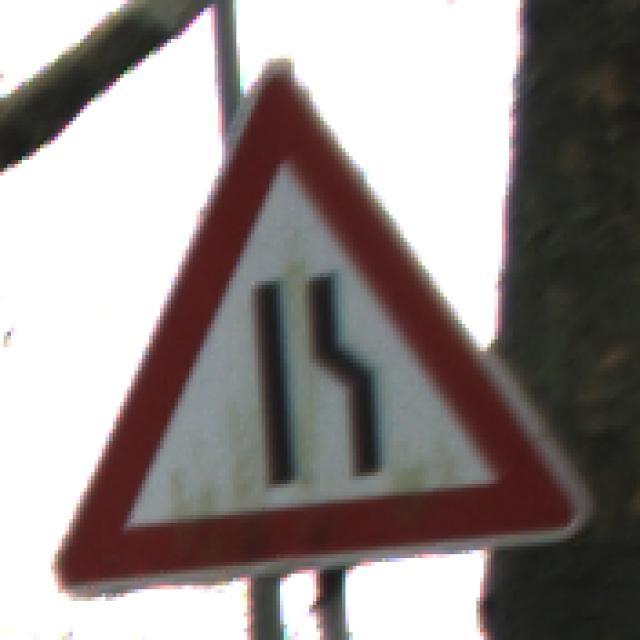narrow road ahead: (53, 59, 591, 596)
